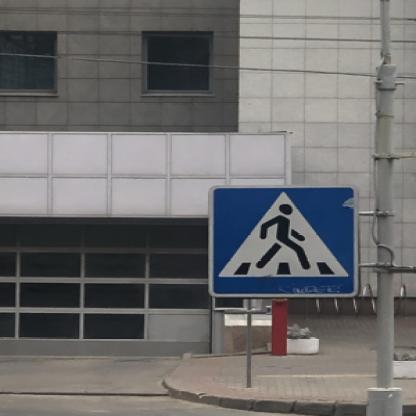crosswalk: (205, 184, 358, 298)
